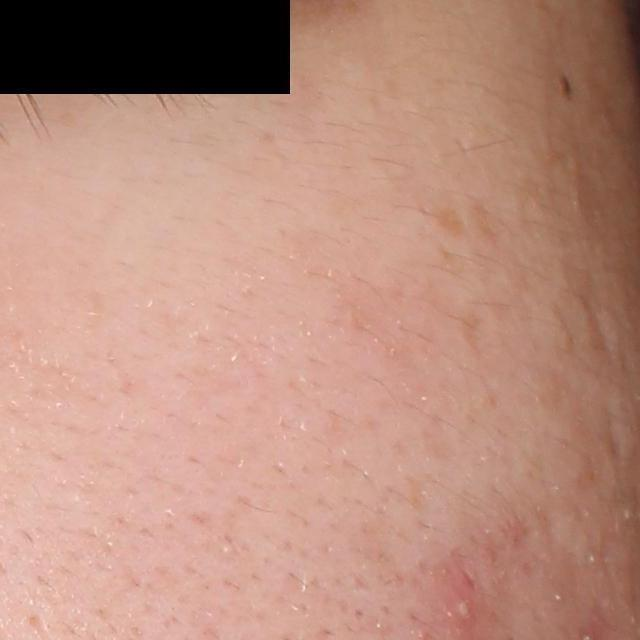nevus: (554, 70, 578, 100)
pustule: (452, 595, 487, 630)
